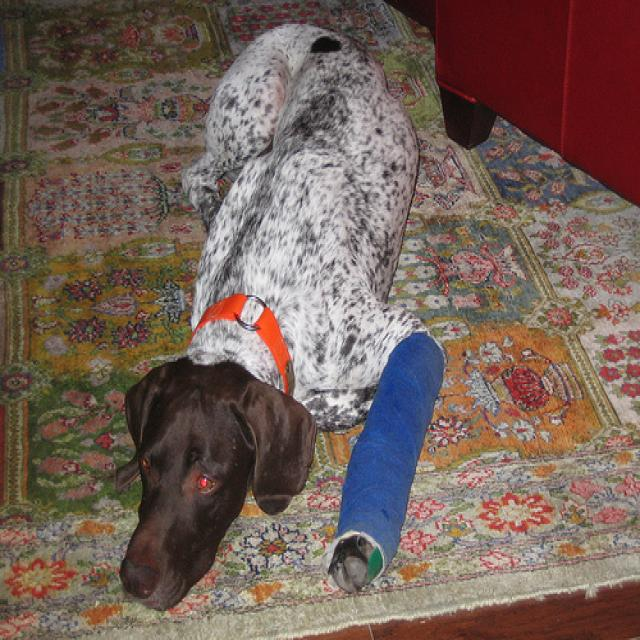dog-german_shorthaired: (108, 14, 439, 613)
